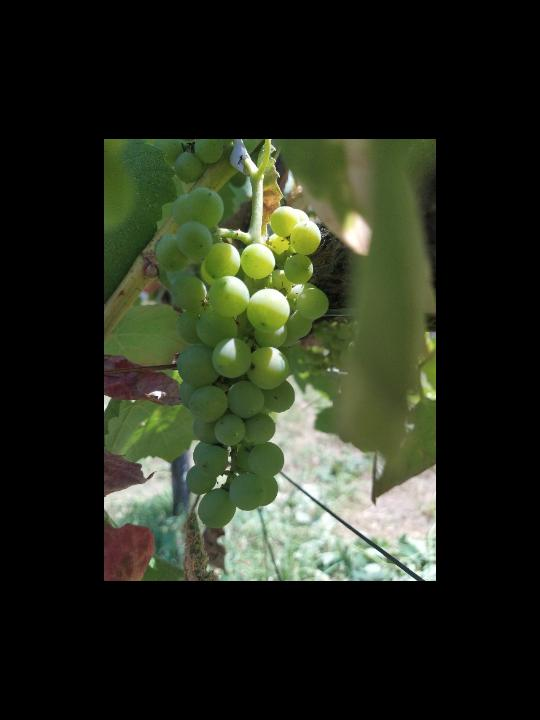grape: (151, 186, 333, 531)
